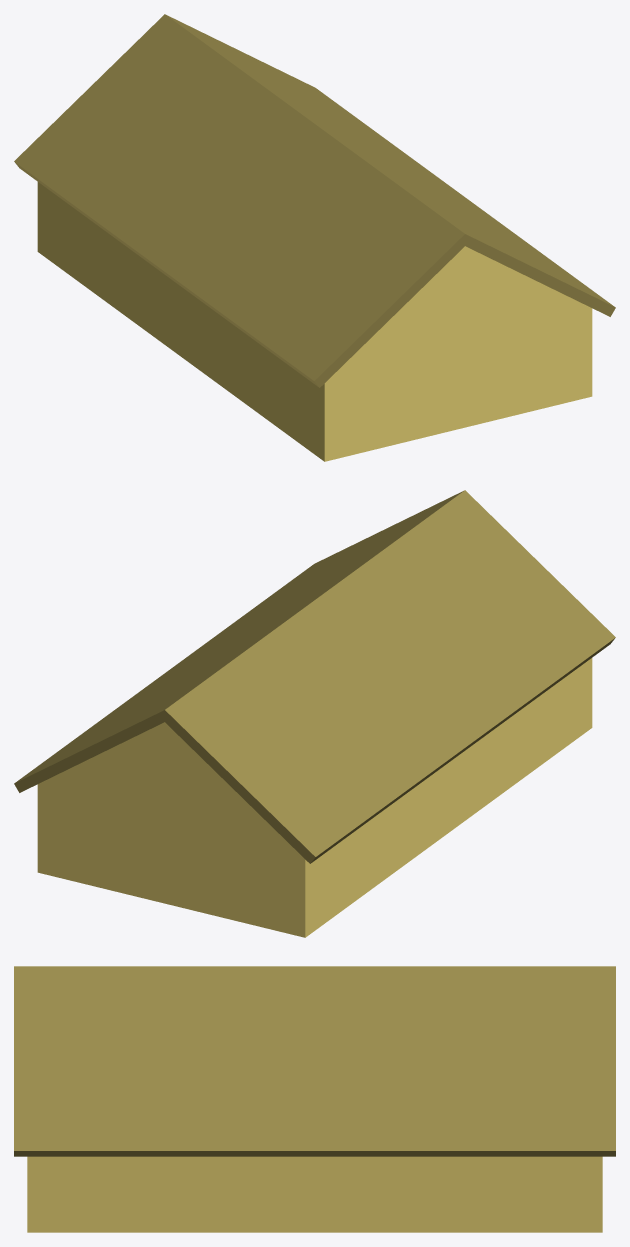
File: result.glb
3 renders of one model, top to bottom at view 1: azimuth 30°, elevation 25°; view 2: azimuth 150°, elevation 25°; view 3: azimuth 270°, elevation 25°, orthographic.
Parts seen in each view (by area): view 1: 9ab9c0ac-bdc9-4658-8815-06ca49dea1cc__undefined (×2), d5f37443-c71a-41d8-a8ae-21617de3d1ad__undefined; view 2: 9ab9c0ac-bdc9-4658-8815-06ca49dea1cc__undefined (×2), d5f37443-c71a-41d8-a8ae-21617de3d1ad__undefined; view 3: 9ab9c0ac-bdc9-4658-8815-06ca49dea1cc__undefined, d5f37443-c71a-41d8-a8ae-21617de3d1ad__undefined.
Part boxes in pixels (x1,y1,x2,y2): 9ab9c0ac-bdc9-4658-8815-06ca49dea1cc__undefined (×2): (14, 14, 615, 387); d5f37443-c71a-41d8-a8ae-21617de3d1ad__undefined: (37, 182, 592, 461); 9ab9c0ac-bdc9-4658-8815-06ca49dea1cc__undefined (×2): (14, 490, 615, 863); d5f37443-c71a-41d8-a8ae-21617de3d1ad__undefined: (37, 658, 592, 937); 9ab9c0ac-bdc9-4658-8815-06ca49dea1cc__undefined: (14, 966, 615, 1156); d5f37443-c71a-41d8-a8ae-21617de3d1ad__undefined: (27, 1156, 602, 1232).
Size of the model in its own units: 789 by 500 by 1360.
